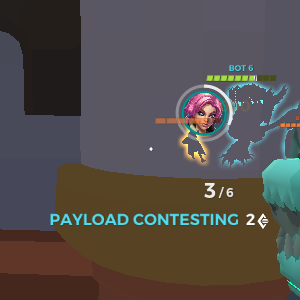model: (173, 118, 206, 170)
